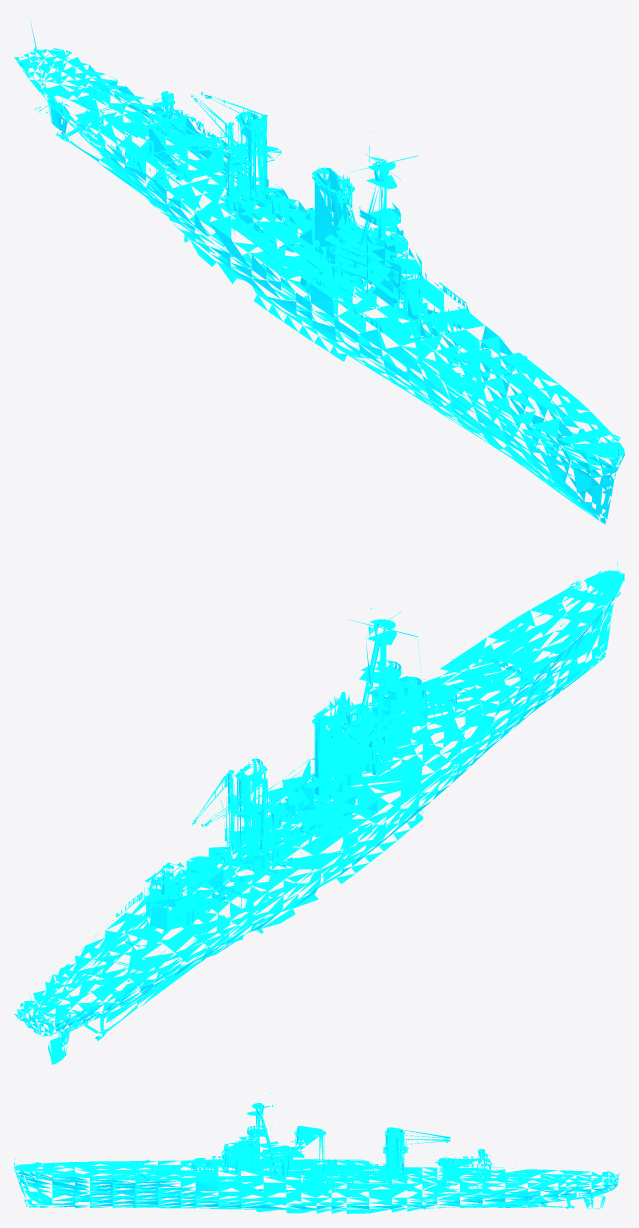
The model's file is Mikoyan.glb.
3 renders of one model, top to bottom at view 1: azimuth 30°, elevation 25°; view 2: azimuth 150°, elevation 25°; view 3: azimuth 270°, elevation 25°, orthographic. The views are drawn at different scales.
Bounding box in the file's own units: 1.17 × 2.66 × 12.68.
